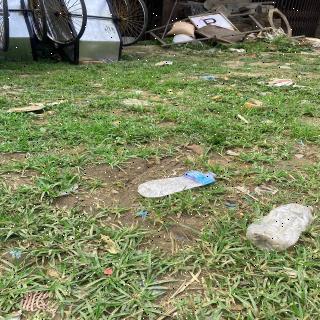Plastic-bottle: (137, 170, 220, 200)
